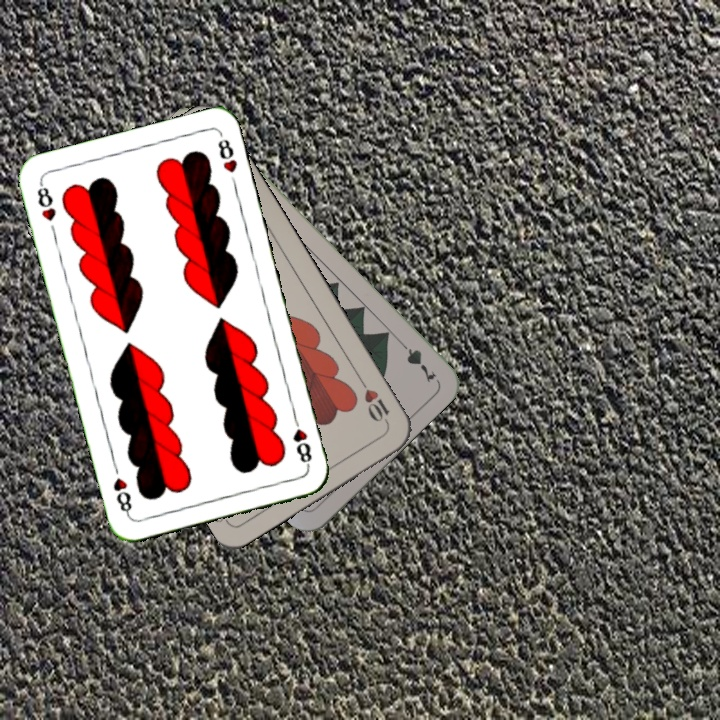G7: (393, 335, 440, 385)
H10: (355, 374, 392, 428)
H8: (288, 411, 315, 470), (33, 178, 59, 224)
